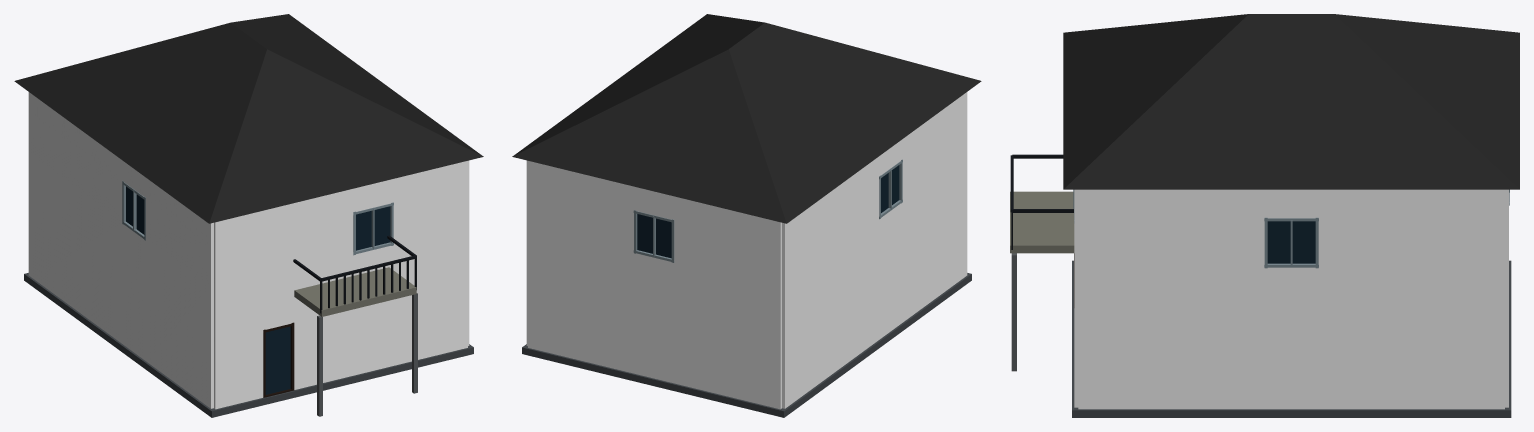
File: four-facades-house.obj
The picture shows the model from 3 angles, left to right: view 1: azimuth 30°, elevation 25°; view 2: azimuth 150°, elevation 25°; view 3: azimuth 270°, elevation 25°; orthographic projection. The views are drawn at different scales.
Parts seen in each view (by area): view 1: roof, left_wall, left_wall.005, front_wall.019, left_wall.001, foundation, front_wall.010, front_wall.020, front_wall.001, front_wall.021, balcony_floor, front_wall.002 (+22 smaller); view 2: roof, back_wall.005, back_wall, left_wall, left_wall.005, back_wall.003, back_wall.006, back_wall.001, left_wall.001, foundation, back_wall.007, left_wall.003 (+8 smaller); view 3: roof, right_wall, right_wall.005, right_wall.001, right_wall.006, right_wall.003, right_wall.002, right_wall.007, foundation, balcony_floor, right_window_glass, right_wall.004 (+2 smaller).
Boxes of the visible parts, x1,y1,x2,y2 form: roof: (14, 14, 483, 223); left_wall: (28, 153, 123, 344); left_wall.005: (145, 239, 213, 408); front_wall.019: (392, 281, 467, 365); left_wall.001: (28, 114, 122, 221); foundation: (24, 273, 473, 417); front_wall.010: (294, 309, 354, 389); front_wall.020: (392, 225, 467, 299); front_wall.001: (214, 332, 263, 409); front_wall.021: (393, 186, 467, 242); balcony_floor: (294, 267, 416, 316); front_wall.002: (214, 275, 264, 343); roof: (512, 14, 981, 223); back_wall.005: (673, 261, 781, 409); back_wall: (528, 225, 635, 373); left_wall: (782, 218, 879, 408); left_wall.005: (901, 153, 967, 322); back_wall.003: (635, 253, 672, 382); back_wall.006: (674, 221, 781, 286); back_wall.001: (528, 186, 633, 251); left_wall.001: (782, 178, 879, 286); foundation: (522, 273, 971, 417); back_wall.007: (673, 196, 781, 247); left_wall.003: (879, 203, 901, 339); roof: (1063, 14, 1519, 189); right_wall: (1078, 266, 1265, 409); right_wall.005: (1317, 266, 1504, 409); right_wall.001: (1078, 219, 1264, 265); right_wall.006: (1318, 219, 1504, 265); right_wall.003: (1266, 267, 1317, 409); right_wall.002: (1078, 189, 1265, 219); right_wall.007: (1317, 189, 1504, 219); foundation: (1072, 260, 1511, 417); balcony_floor: (1010, 191, 1074, 253); right_window_glass: (1267, 221, 1315, 263); right_wall.004: (1266, 189, 1317, 218).
Bounding box in the file's own units: 8.7 × 8.51 × 11.95.
